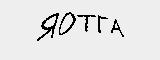А: (107, 16, 129, 39)
Г: (94, 12, 109, 37)
О: (57, 9, 76, 38)
Т: (76, 12, 96, 35)
Я: (34, 11, 61, 42)
